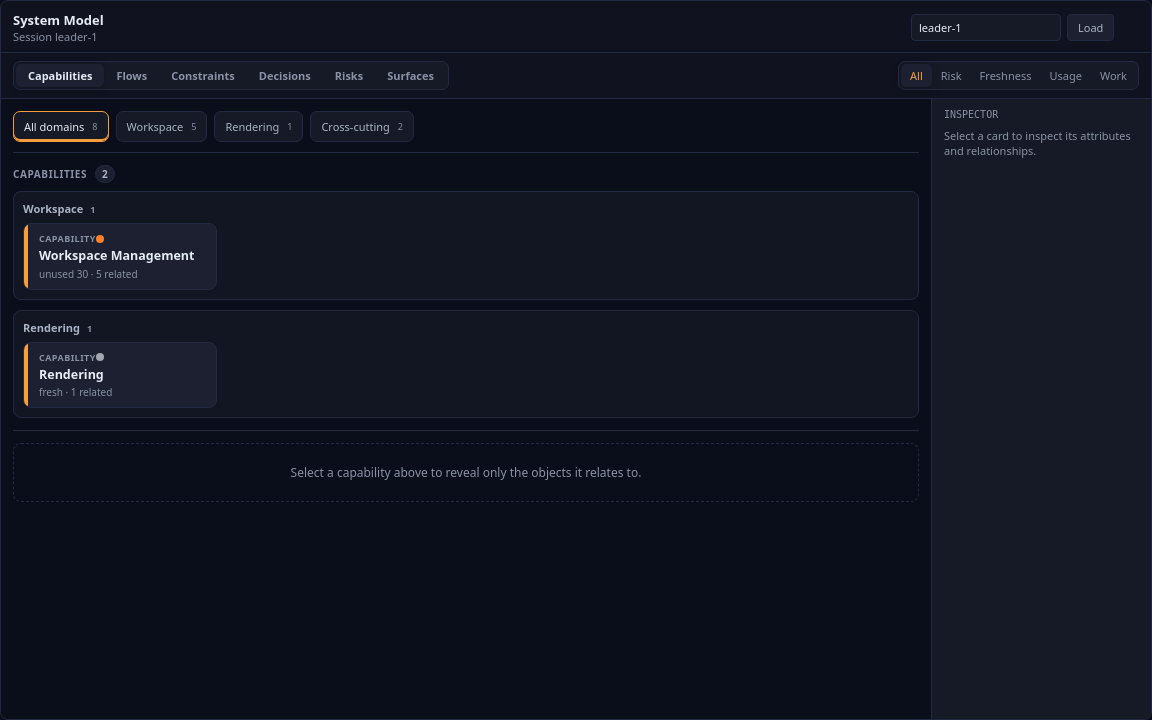
SystemGraphNodeRenderer › renders the capability primary row and lets the user switch to flows
Expected: the button with aria-label "Inspect Workspace Management" is shown, [23,223,217,290]
Expected: the button with aria-label "Inspect Rendering" is shown, [23,342,217,408]
Click the button "Flows" at (132, 76), box [104,64,159,87]
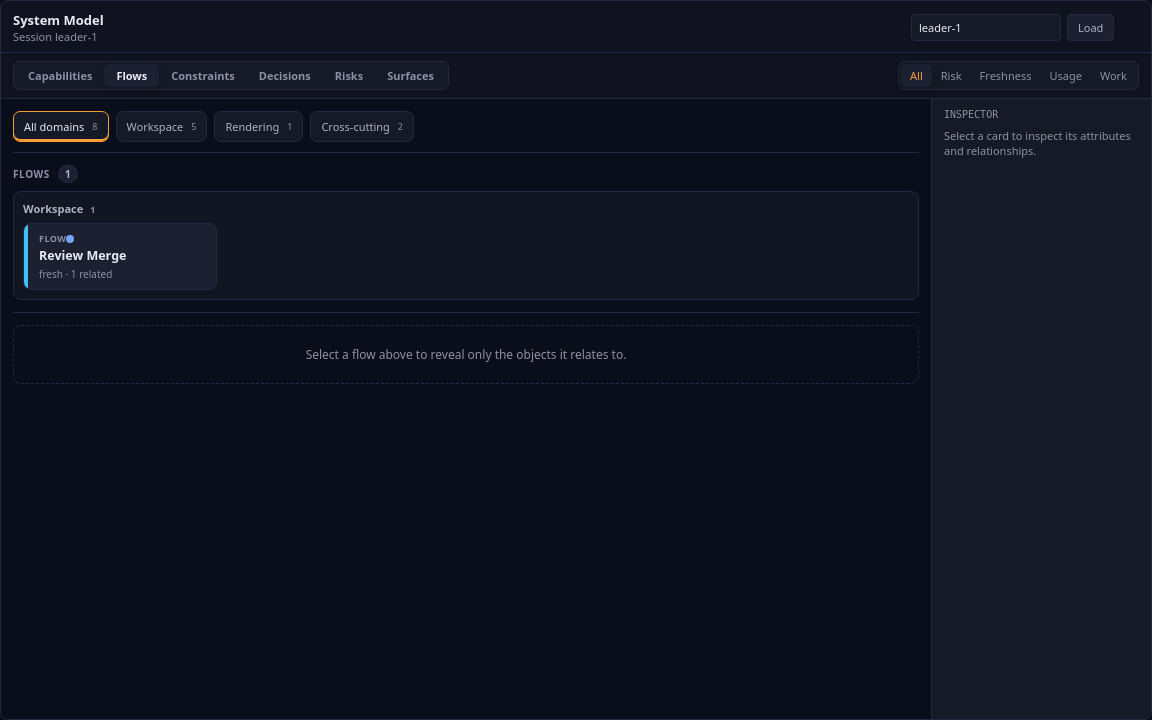
Expected: the button with aria-label "Inspect Review Merge" is shown, [23,223,217,290]
Expected: the button "Inspect Rendering" is gone
